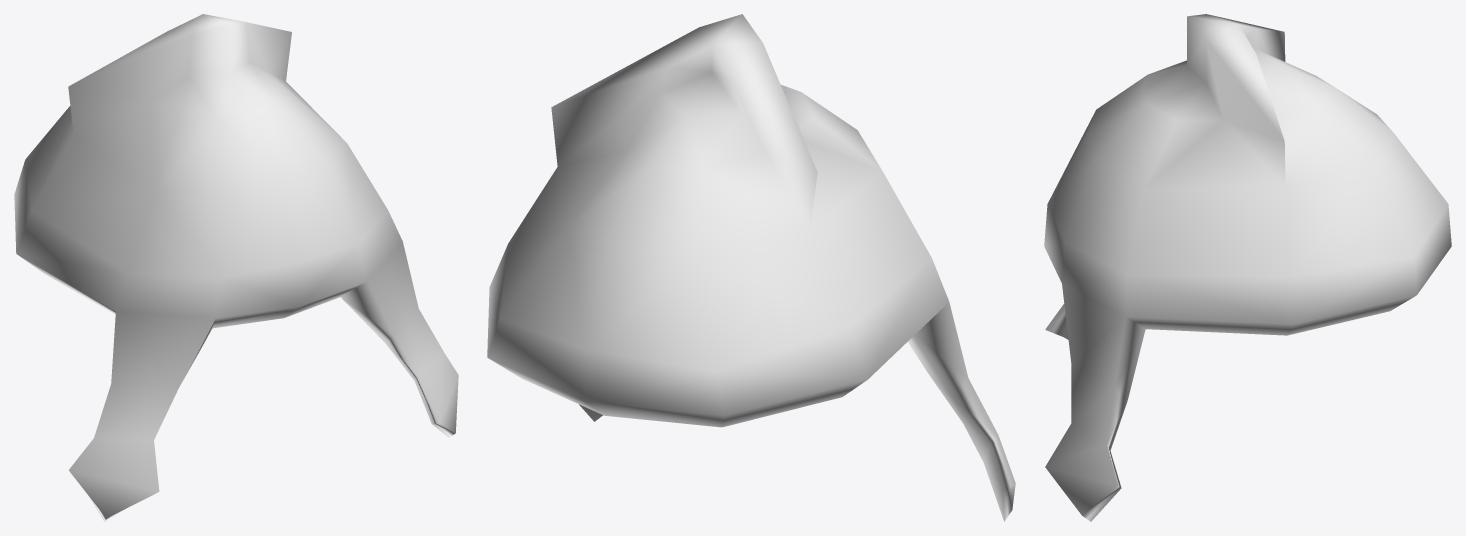
File: squid_hat.fbx
3 renders of one model, left to right at view 1: azimuth 30°, elevation 25°; view 2: azimuth 150°, elevation 25°; view 3: azimuth 270°, elevation 25°, orthographic. The views are drawn at different scales.
Visible parts, largest first — view 1: inkay; view 2: inkay; view 3: inkay.
Part boxes in pixels (bbox=[...]): inkay: bbox=[14, 14, 458, 521]; inkay: bbox=[487, 14, 1015, 521]; inkay: bbox=[1044, 14, 1451, 521].
Bounding box in the file's own units: 0.647 × 0.6657 × 0.5837.
